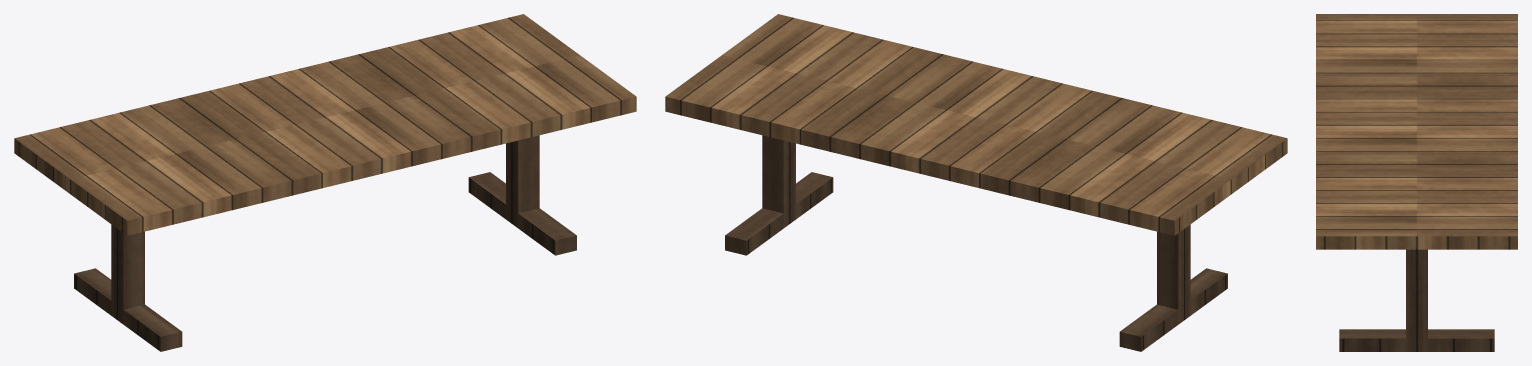
The model's file is Table_Large_LOD2.gltf.
3 views of the same model, side by side, from view 1: azimuth 30°, elevation 25°; view 2: azimuth 150°, elevation 25°; view 3: azimuth 270°, elevation 25° (orthographic). The views are drawn at different scales.
Visible parts, largest first — view 1: Table_Large_LOD2; view 2: Table_Large_LOD2; view 3: Table_Large_LOD2.
Part boxes in pixels (x1,y1,x2,y2): Table_Large_LOD2: [14, 14, 636, 351]; Table_Large_LOD2: [665, 14, 1287, 351]; Table_Large_LOD2: [1316, 14, 1517, 351].
Bounding box in the file's own units: 2.84 × 0.81 × 1.09.
Materials: 2 (2 with a texture image).
